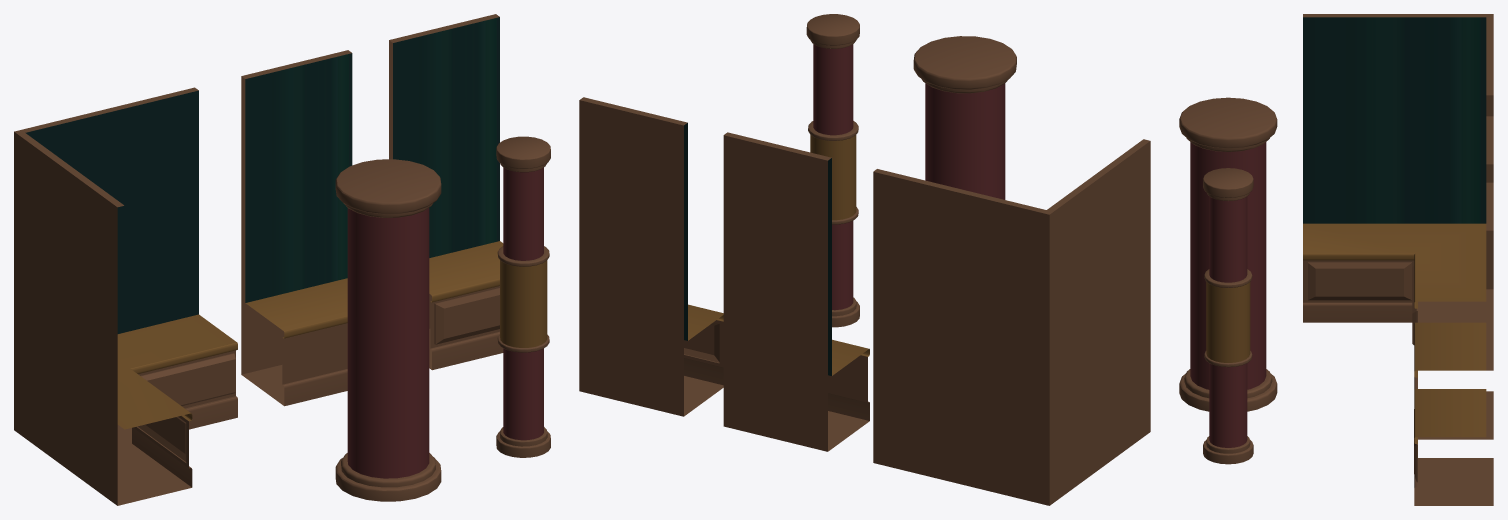
Rendered from Enviroment.fbx.
3 views of the same model, side by side, from view 1: azimuth 30°, elevation 25°; view 2: azimuth 150°, elevation 25°; view 3: azimuth 270°, elevation 25° (orthographic). The views are drawn at different scales.
Visible parts, largest first — view 1: Esquina .003, Modulo 3x3 A.004, Columna 2x2, Modulo 3x3 A.003, columna 1x1; view 2: Esquina .003, Modulo 3x3 A.004, Modulo 3x3 A.003, Columna 2x2, columna 1x1; view 3: Esquina .003, Columna 2x2, columna 1x1, Modulo 3x3 A.003, Modulo 3x3 A.004.
Part boxes in pixels (x1,y1,x2,y2): Esquina .003: (14, 87, 237, 505); Modulo 3x3 A.004: (241, 50, 352, 406); Columna 2x2: (335, 159, 441, 501); Modulo 3x3 A.003: (389, 14, 503, 370); columna 1x1: (496, 136, 550, 457); Esquina .003: (873, 139, 1150, 505); Modulo 3x3 A.004: (723, 132, 869, 451); Modulo 3x3 A.003: (579, 97, 723, 416); Columna 2x2: (913, 36, 1016, 199); columna 1x1: (806, 14, 859, 327); Esquina .003: (1303, 14, 1493, 370); Columna 2x2: (1179, 97, 1277, 411); columna 1x1: (1203, 168, 1253, 464); Modulo 3x3 A.003: (1414, 182, 1493, 505); Modulo 3x3 A.004: (1414, 116, 1493, 439).
Size of the model in its own units: 1351 by 800 by 829.
